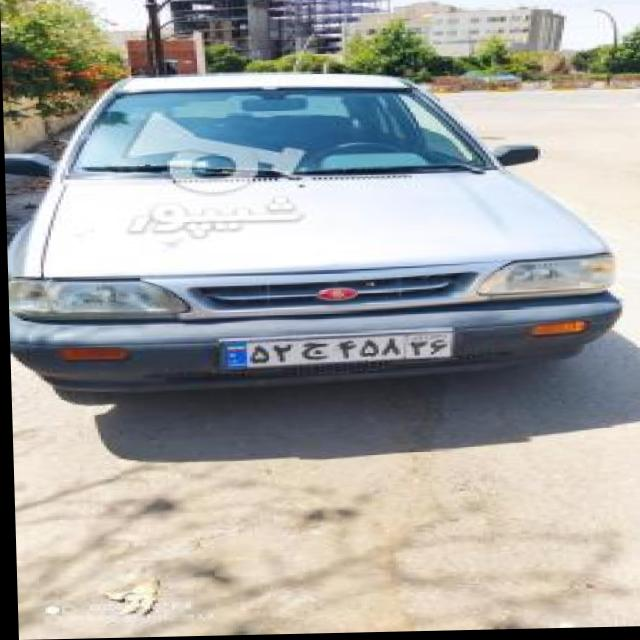licence: (214, 334, 459, 366)
